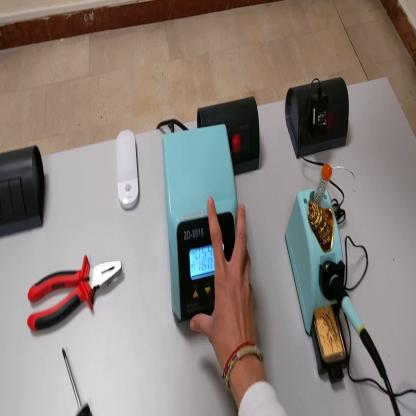hand: (193, 197, 261, 370)
pliers: (22, 241, 124, 338)
screwdriver-: (59, 352, 93, 414)
socket: (282, 72, 353, 160), (196, 90, 261, 174)
welder base: (282, 161, 353, 390)
welder probe tip: (321, 265, 389, 382)
welder station: (162, 123, 238, 323)
